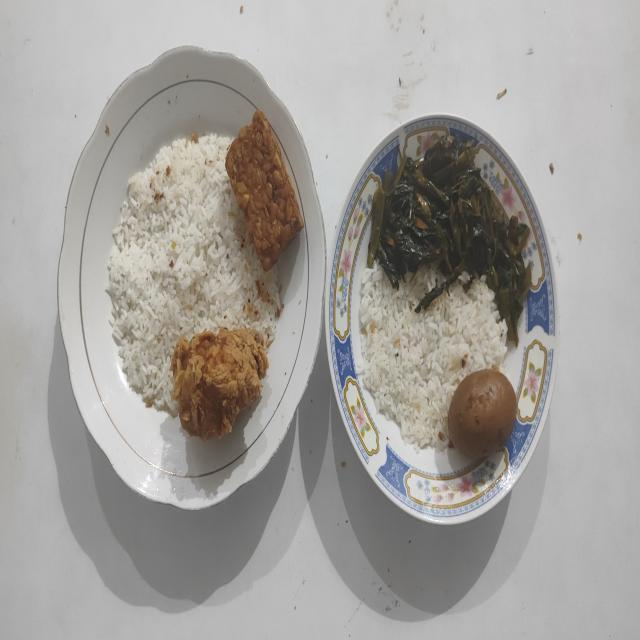nasi_putih: (106, 134, 282, 416), (359, 264, 510, 451)
tempe_goreng: (226, 110, 304, 271)
tumis_kangkung: (368, 134, 532, 346)
